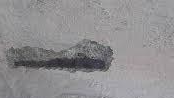Exposed reinforcement: (13, 55, 106, 70)
Spalling: (3, 37, 115, 74)
